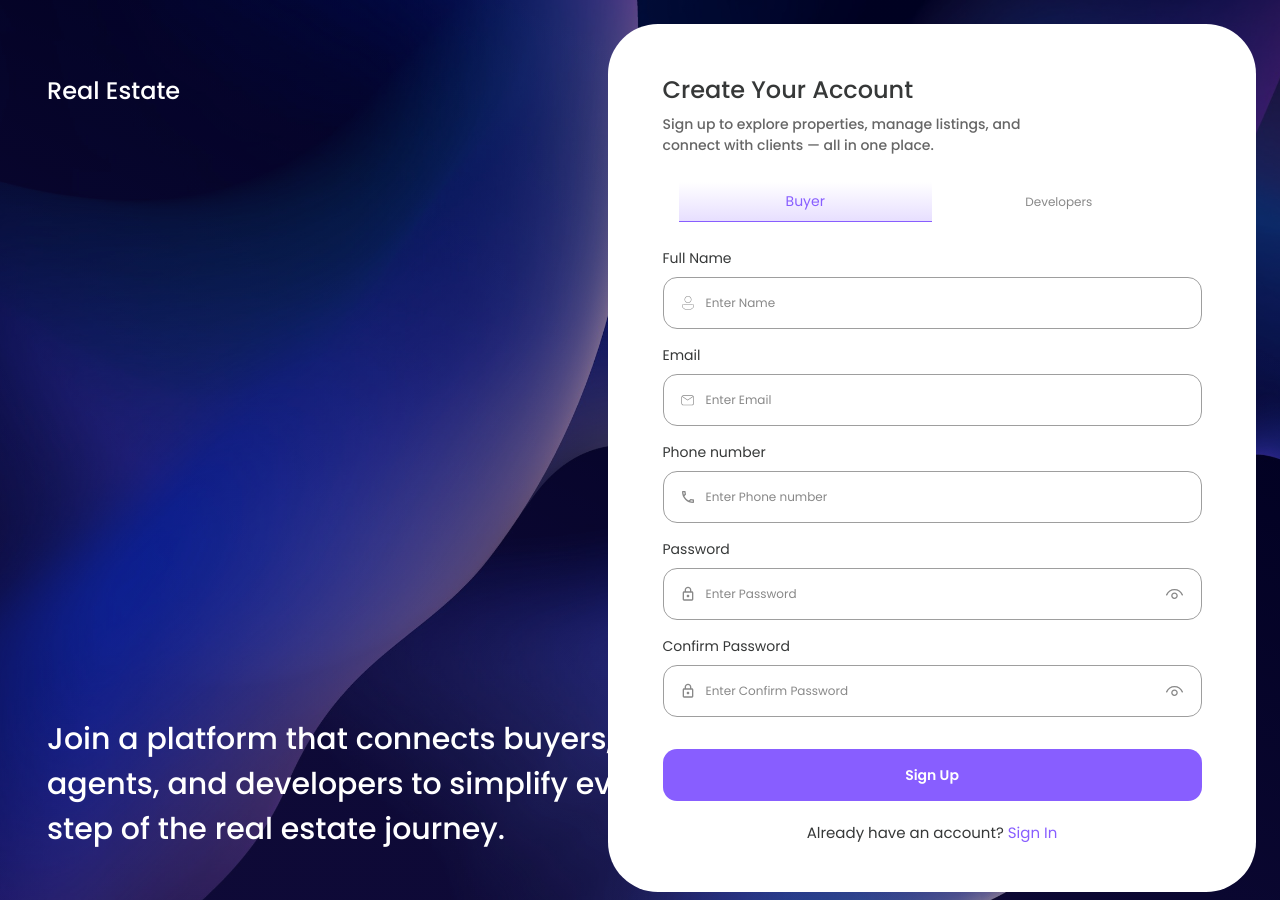
Test case: SignUpPage › shows a server error.fields message exactly as it arrives
This screenshot has width=1280, height=900.
Type "Amira Khan" into the field labelled "Full Name" at [945, 303], box [706, 278, 1184, 328]
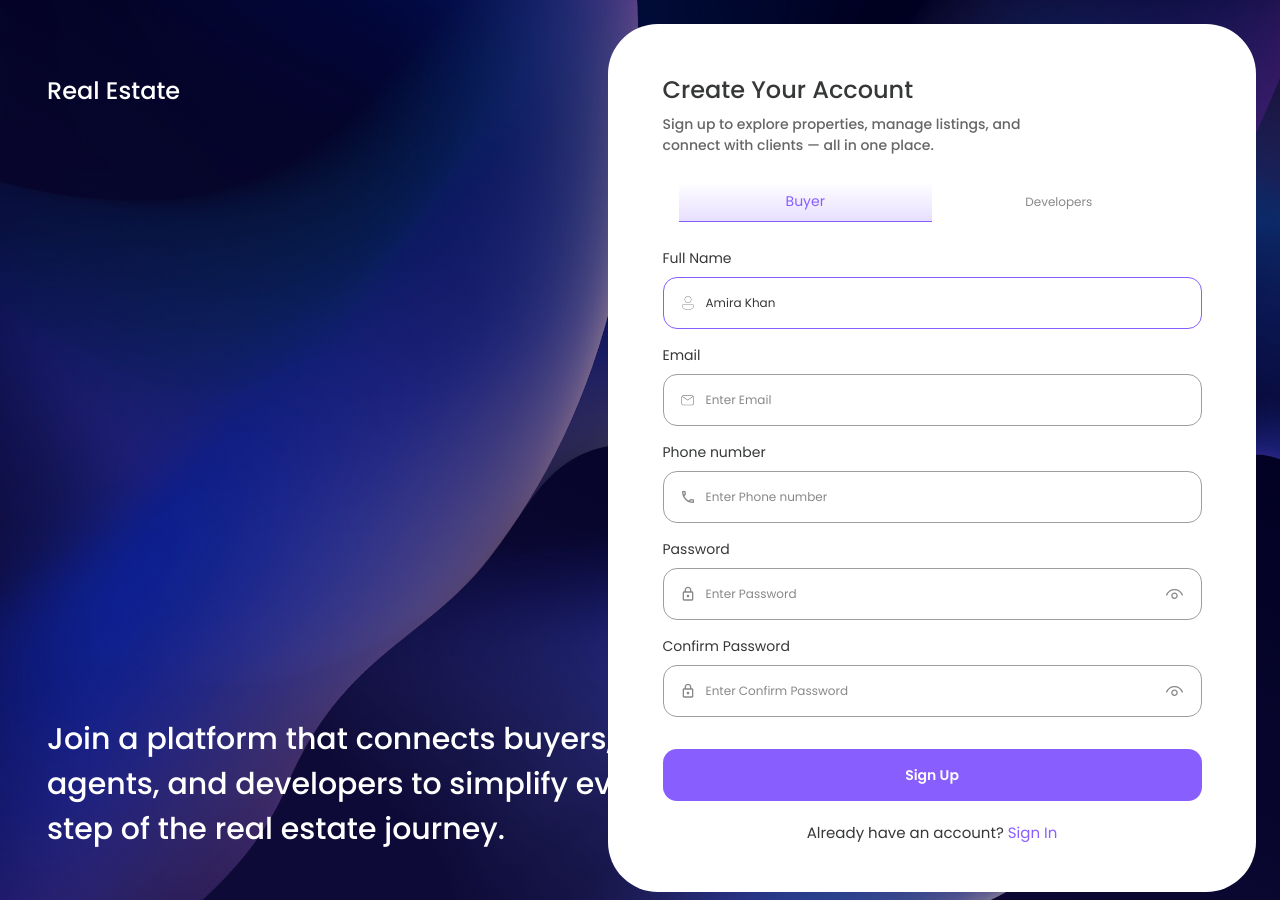
Type "  New.Buyer@Example.TEST " into the field labelled "Email" at [945, 400], box [706, 375, 1184, 425]
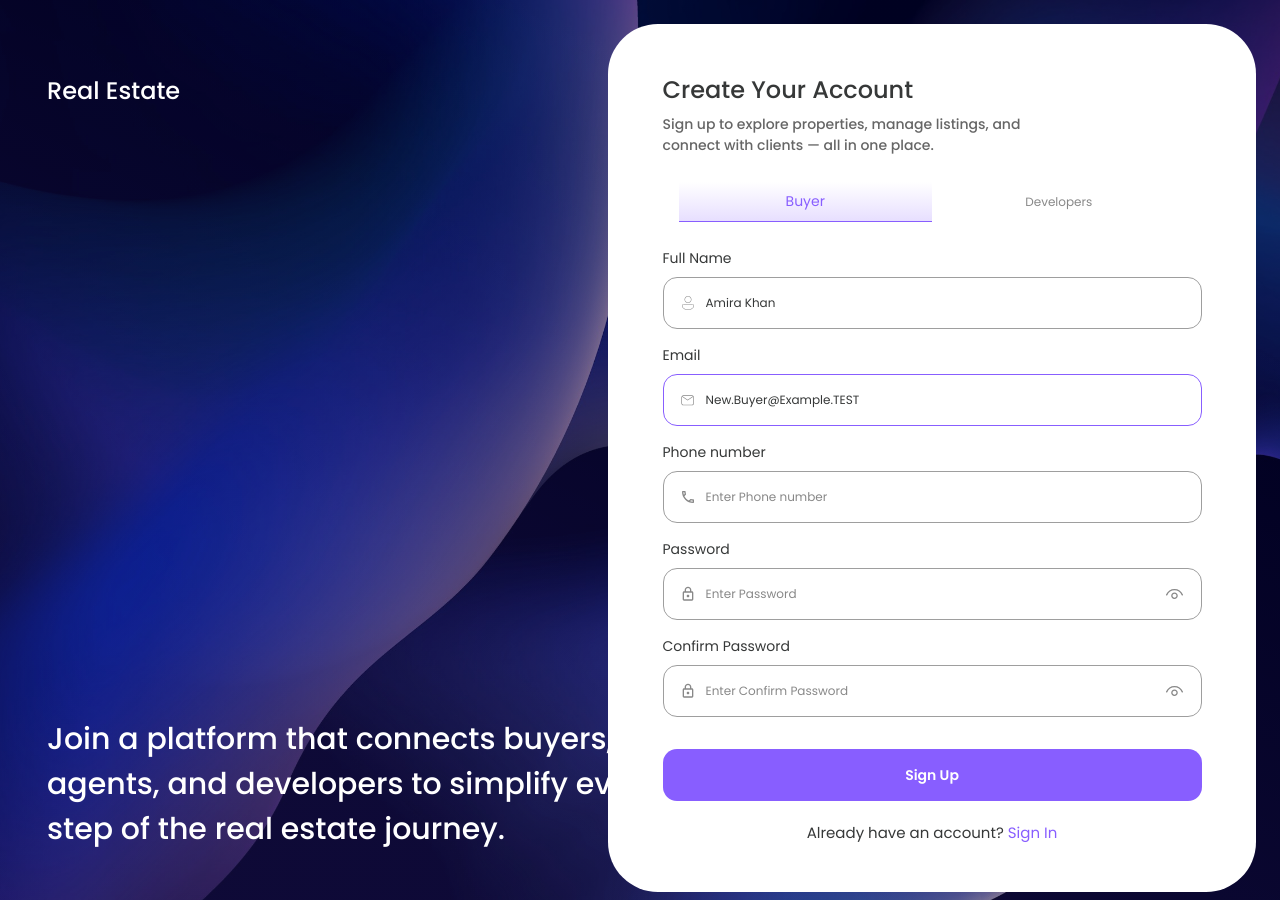
Type "+971 50-123 4567" into the field labelled "Phone number" at [945, 497], box [706, 472, 1184, 522]
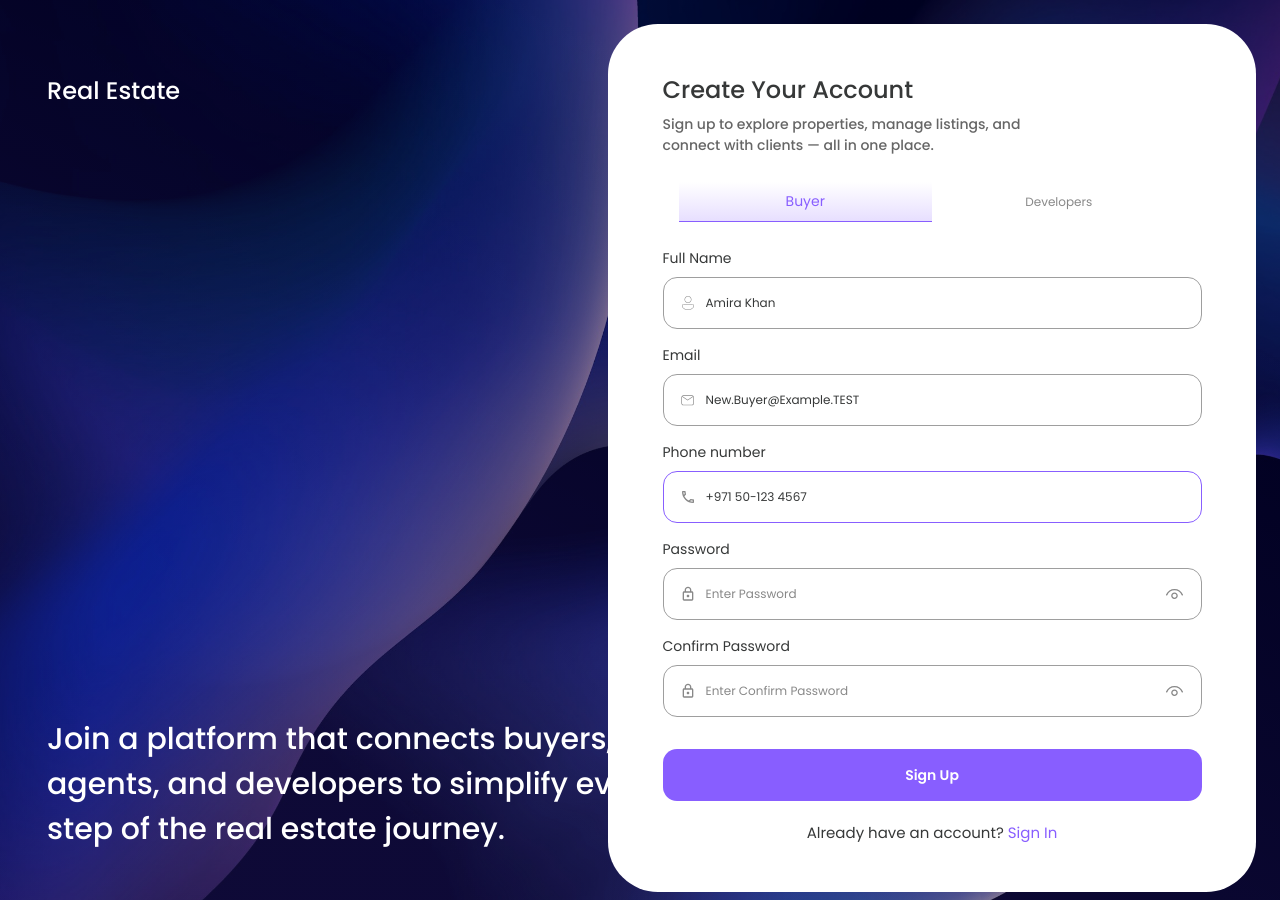
Type "secret123" into the password field labelled "Password" at [930, 594], box [706, 569, 1154, 619]
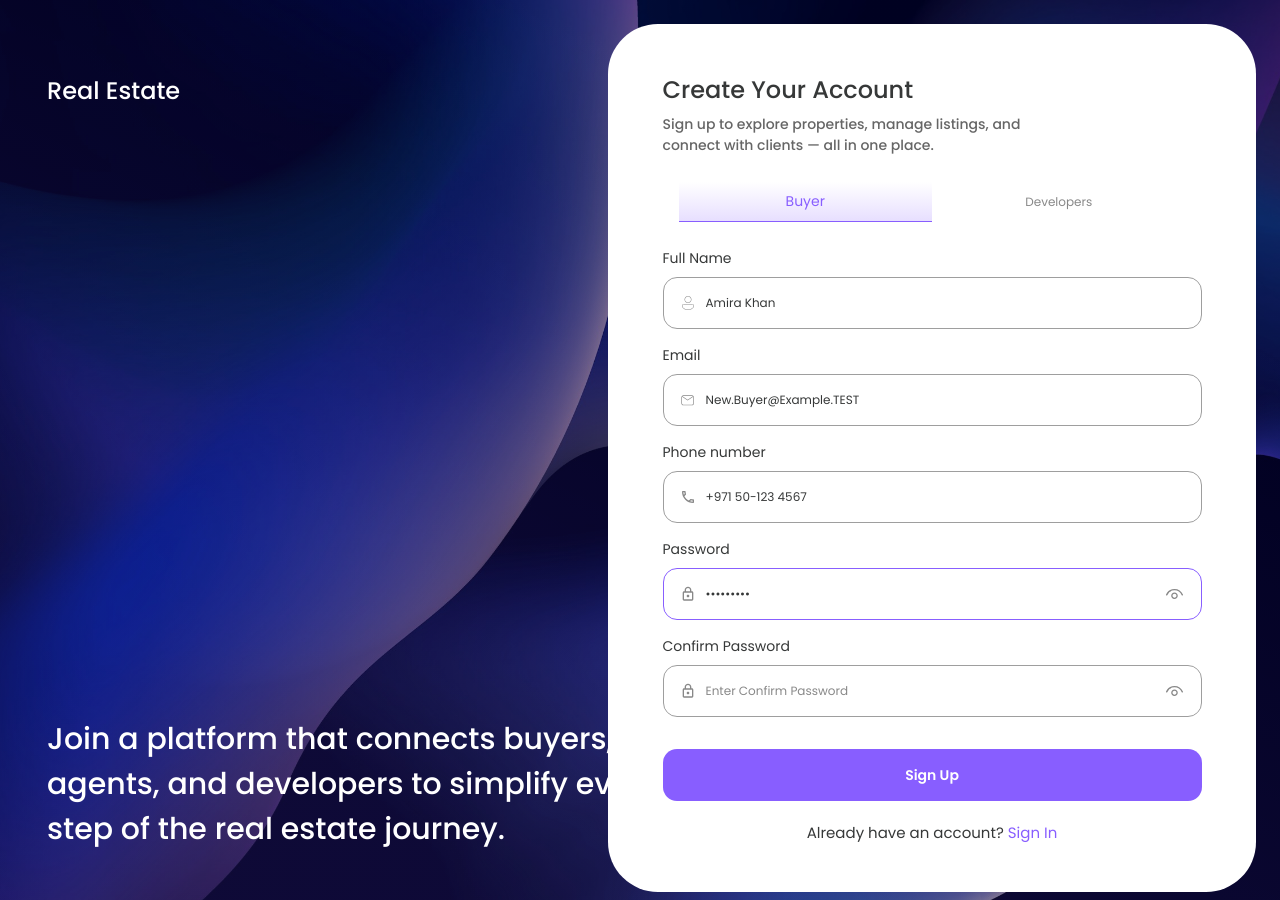
Type "secret123" into the password field labelled "Confirm Password" at [930, 691], box [706, 666, 1154, 716]
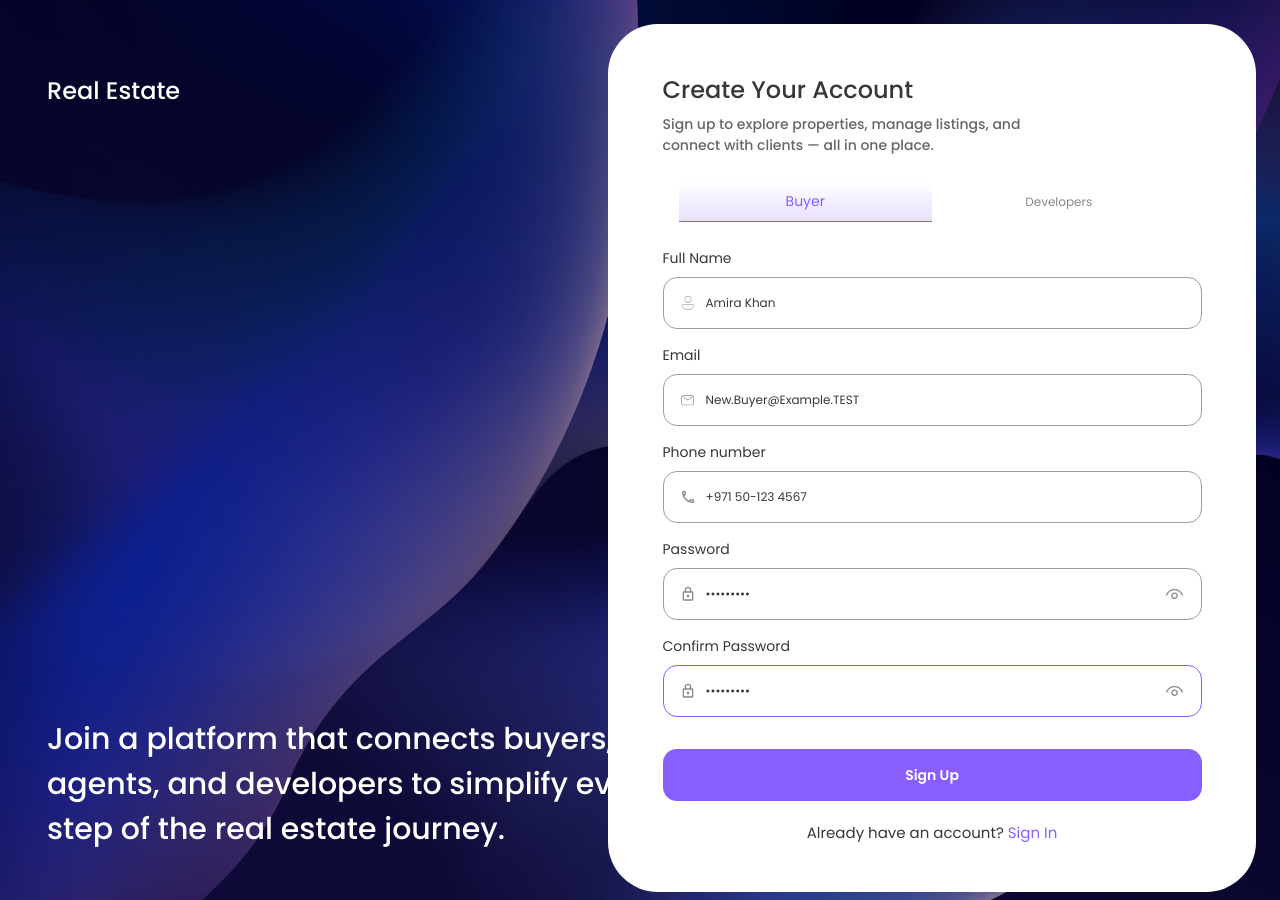
Click the button "Sign Up" at [932, 775], box [662, 749, 1202, 801]
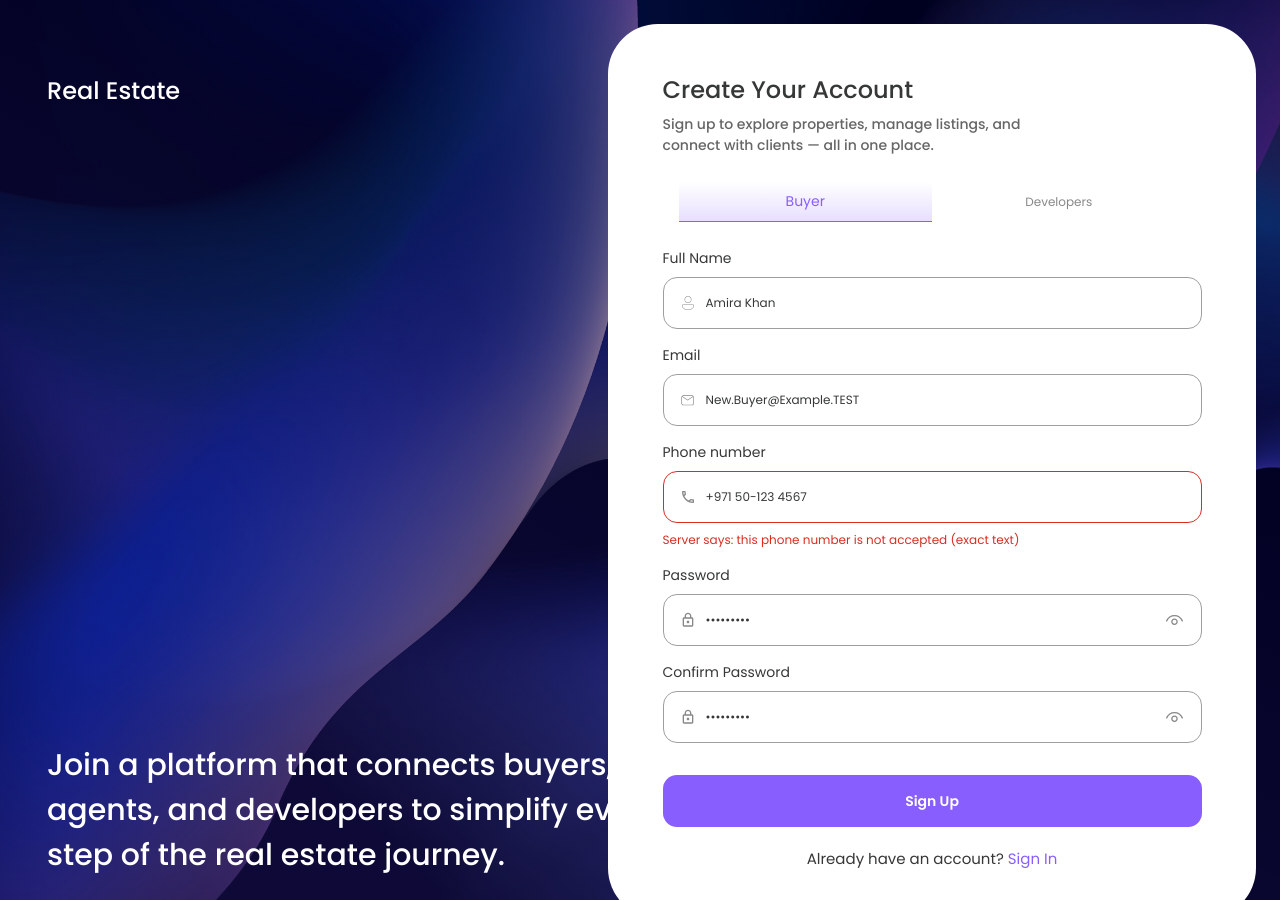
Expected: the text "Server says: this phone number is not accepted (exact text)" is shown, [662, 531, 1019, 548]
